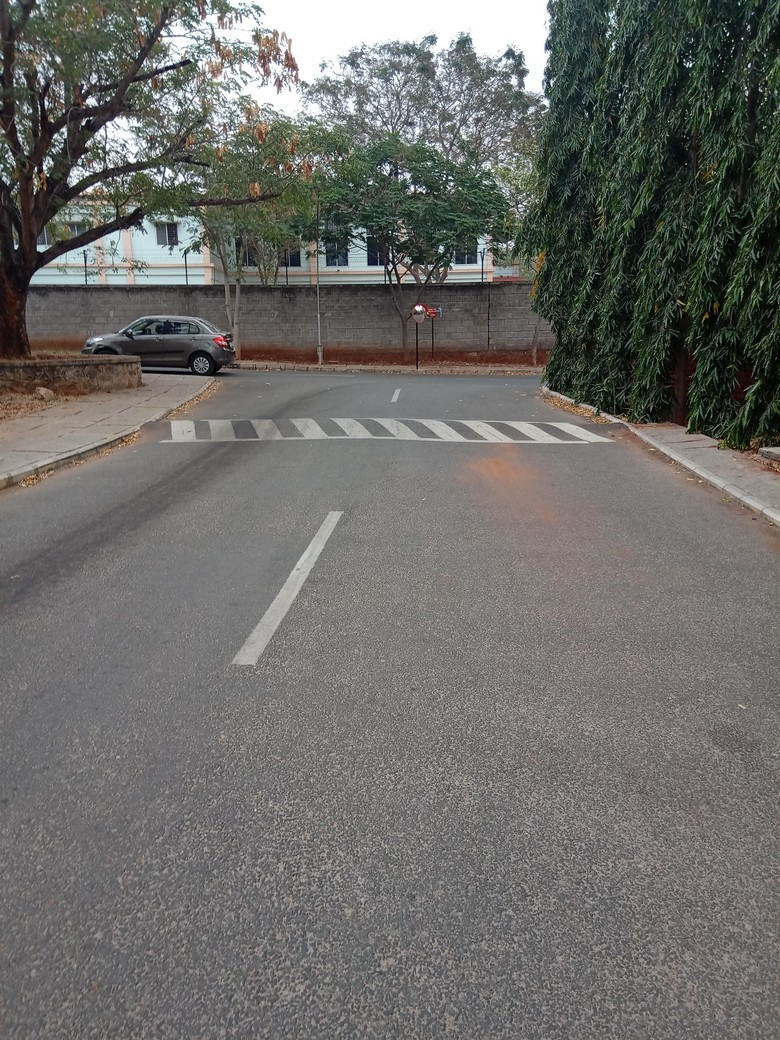bump: (148, 416, 622, 445)
